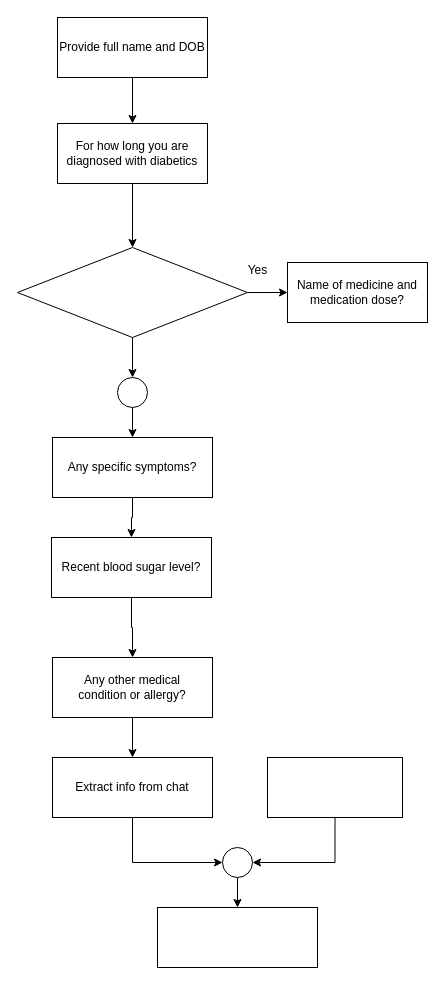
Some shapes in this 445 by 985 pixel diagram are drawn without their labels. Here are the shapes that lost their labels. From the top down, the centre of each, then its label:
the point at 132,292: Currently taking any medication?
the point at 334,787: Measure Health Data using Hardware
the point at 237,937: Generate Report
